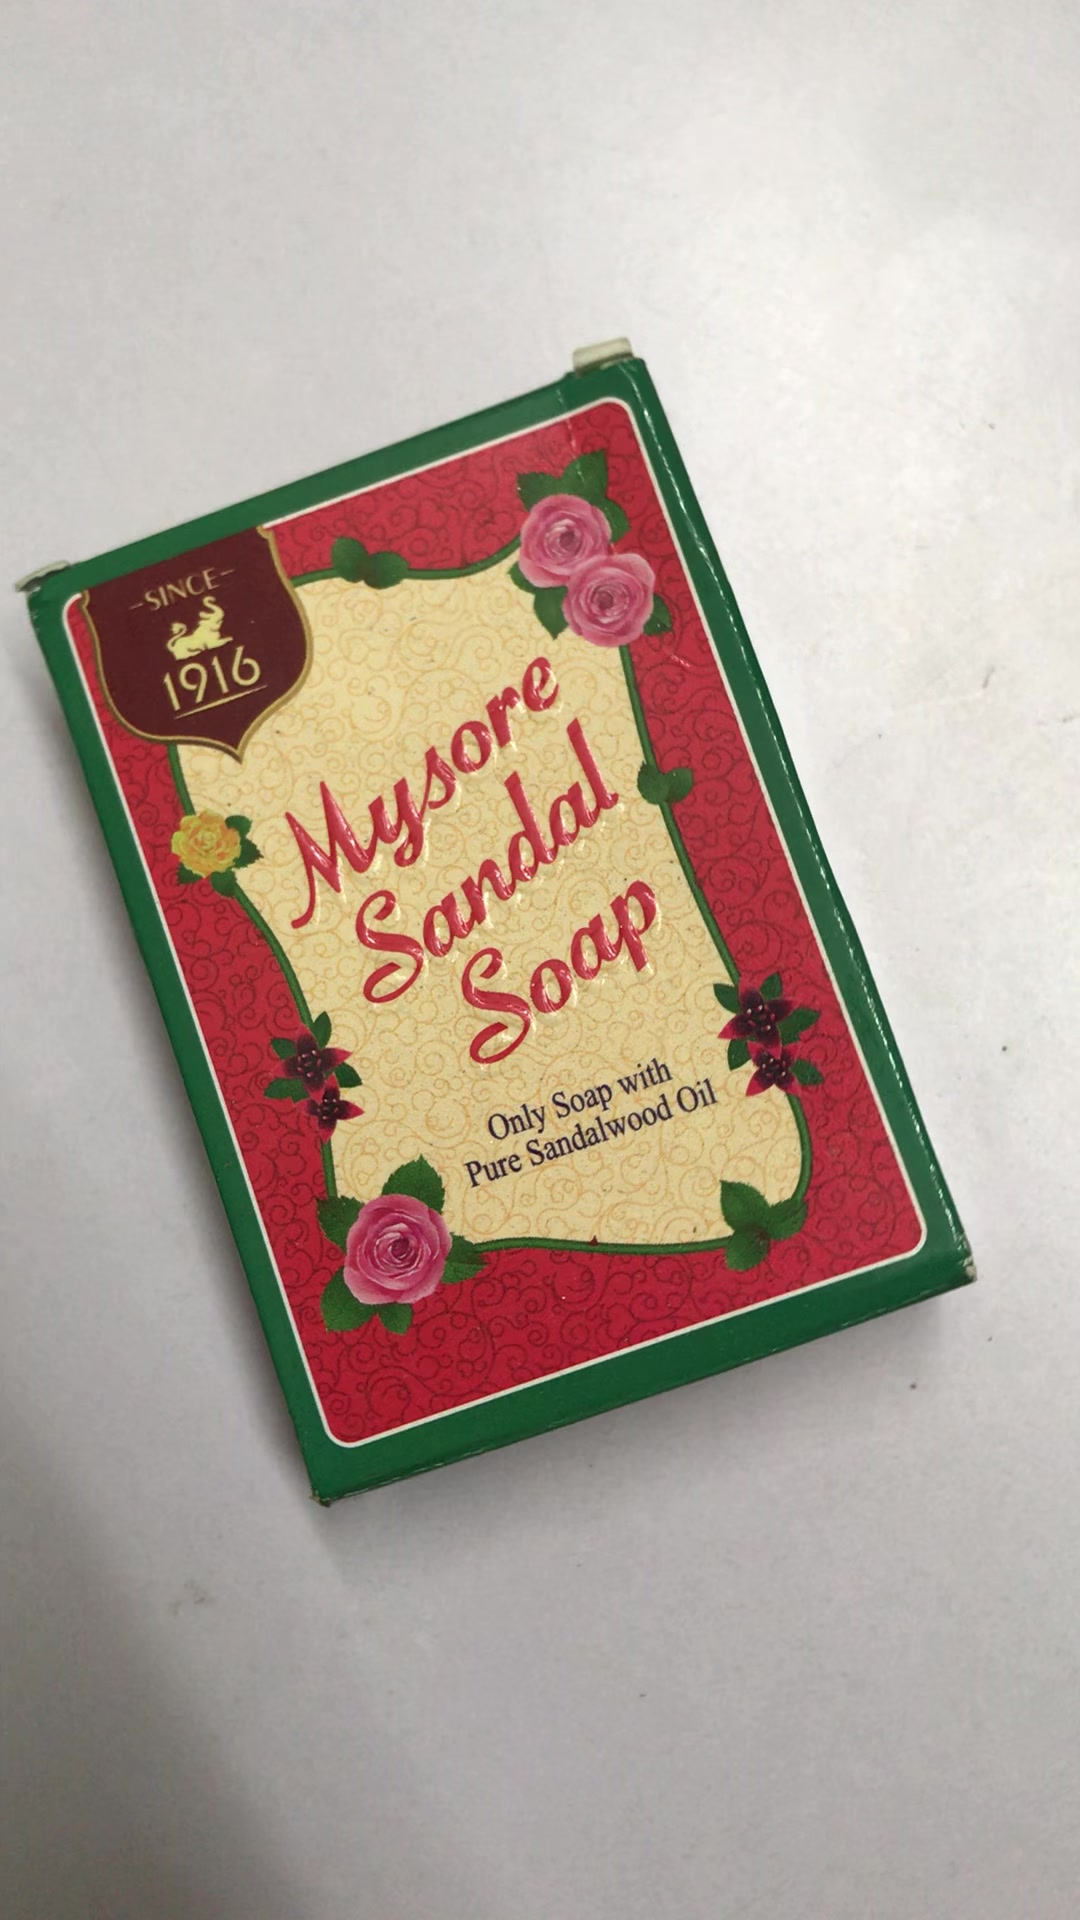mysore sandal soap: (24, 357, 978, 1515)
